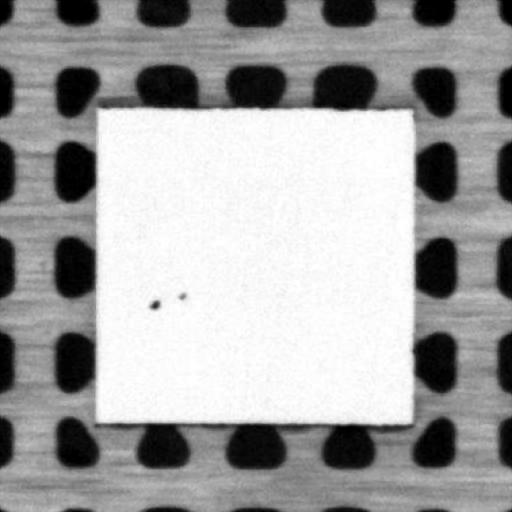DIE_INK: (145, 293, 164, 314), (175, 286, 192, 306)
